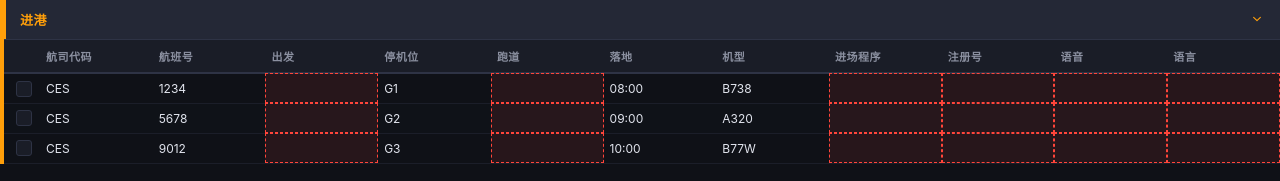
Scenario: FlightTable — aircraft type dropdown is airline-independent › lists every type from vals.AircraftType, ignoring _compat.airlineToAircraft
Press the mouse on the cell "B738": (773, 88) x1=716 y1=73 x2=829 y2=103
Click the cell "B738": click(773, 88) x1=716 y1=73 x2=829 y2=103
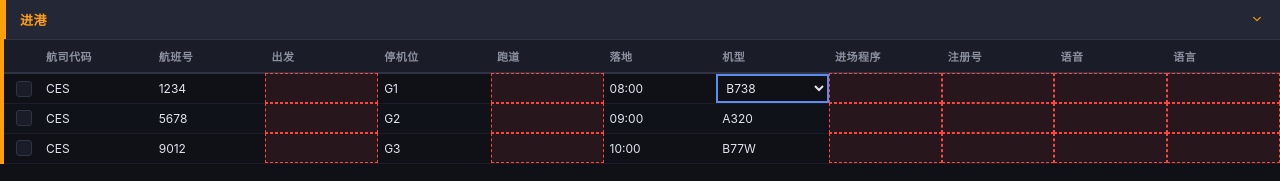
expect the dropdown with class "cell-widget" is shown: met, box x1=716 y1=74 x2=829 y2=102
